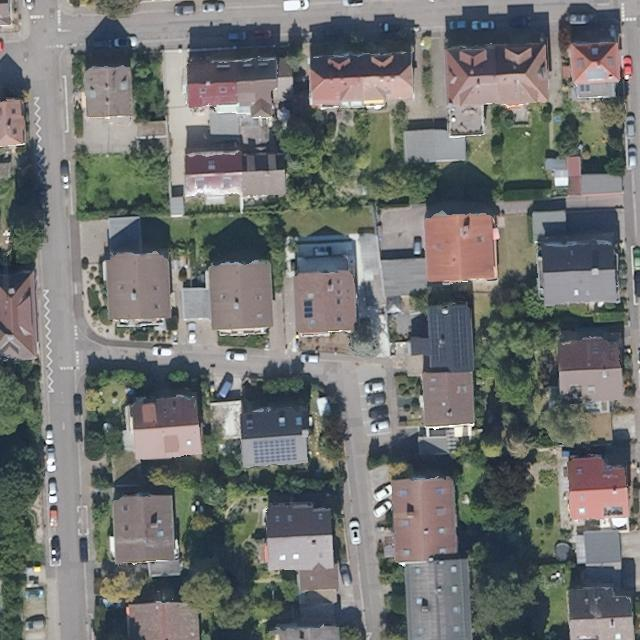PV: (447, 305, 471, 369), (251, 436, 300, 464), (425, 304, 441, 367), (578, 84, 591, 92)
